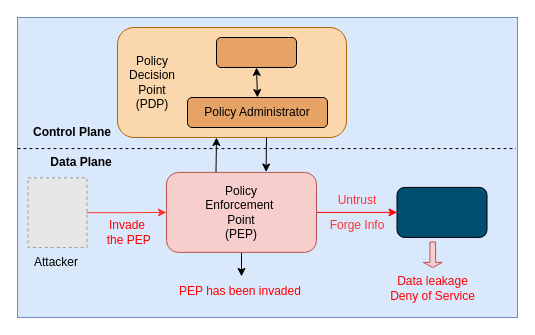
The diagram is 535 pixels wide and 335 high, and some of its shapes have lost their labels. Grey dashed boxes stand in for pictures. Each missing label, with the centre of its shape:
Enterprise Resource: [441,211]
Policy Engine: [256,52]
